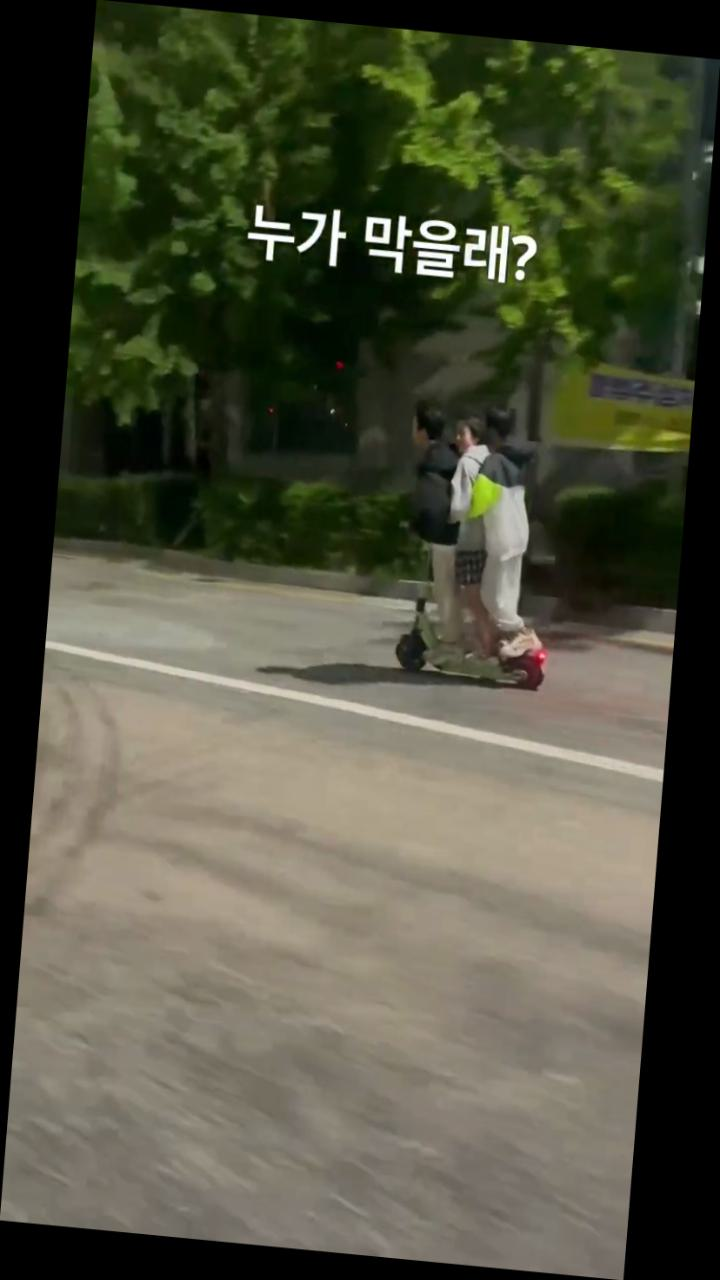multiple: (377, 390, 572, 690)
